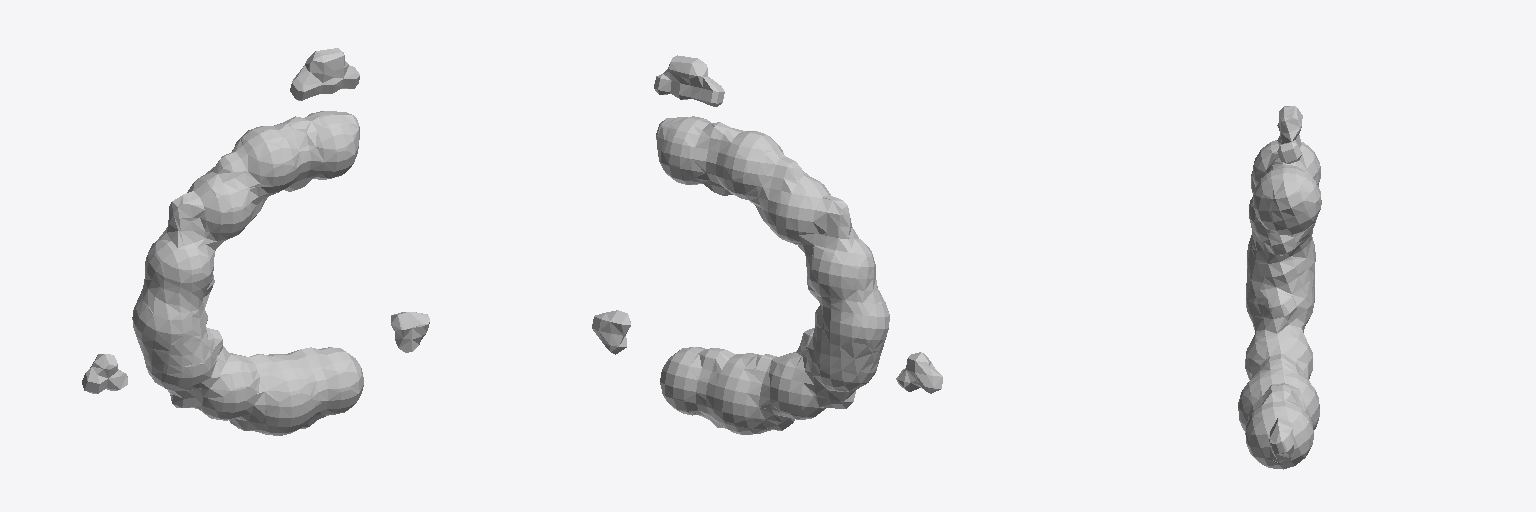
The model's file is ccloud.obj.
3 renders of one model, left to right at view 1: azimuth 30°, elevation 25°; view 2: azimuth 150°, elevation 25°; view 3: azimuth 270°, elevation 25°, orthographic.
Parts seen in each view (by area): view 1: Mball; view 2: Mball; view 3: Mball.
Part boxes in pixels (left/top/right/bottom): Mball: left=82, top=48, right=429, bottom=435; Mball: left=592, top=55, right=942, bottom=434; Mball: left=1238, top=106, right=1321, bottom=469.
Size of the model in its own units: 13.21 by 13.33 by 2.75.